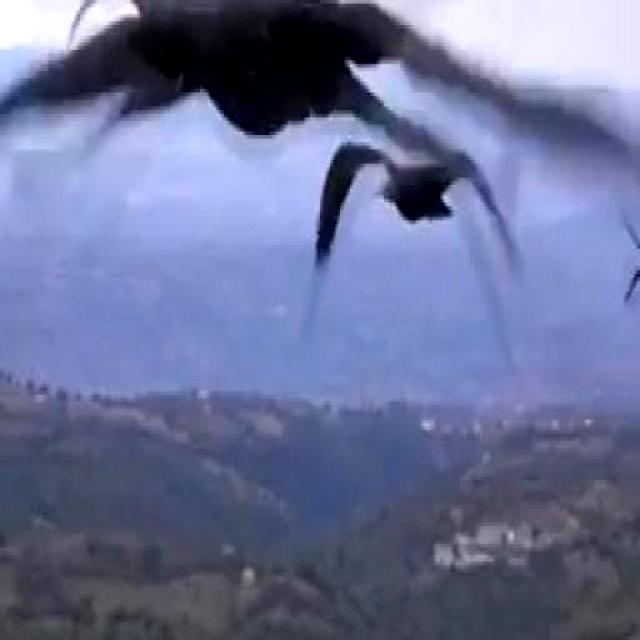airplane: (0, 0, 598, 135), (294, 149, 546, 268)
